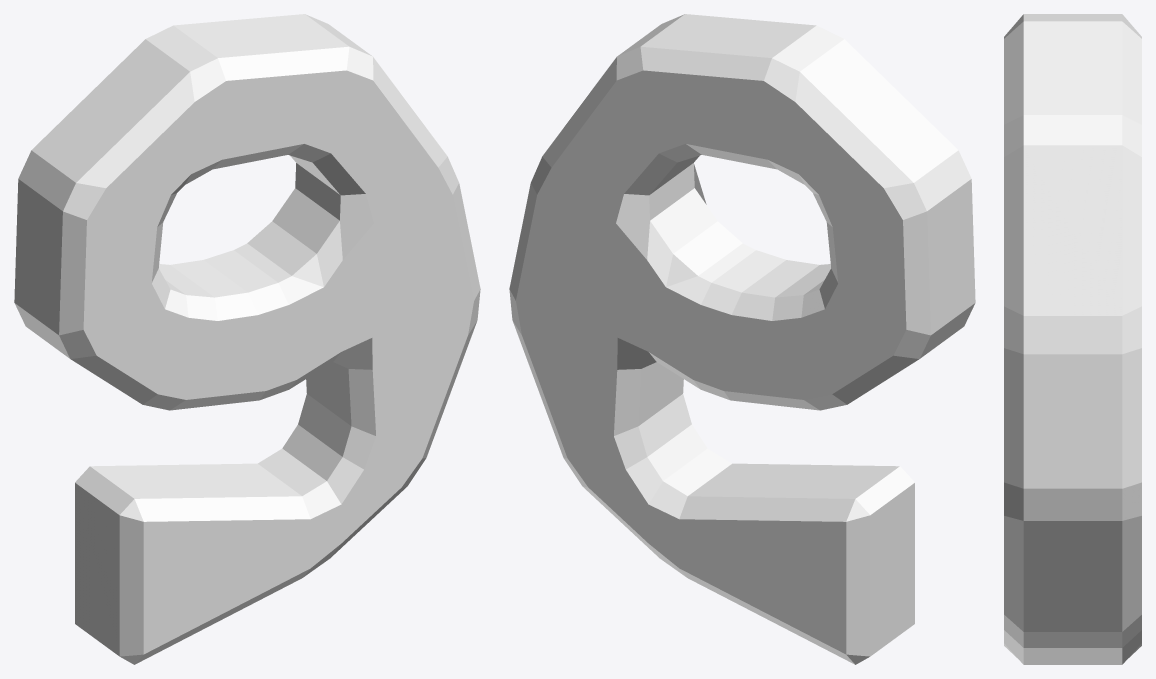
File: nine.glb
3 views of the same model, side by side, from view 1: azimuth 30°, elevation 25°; view 2: azimuth 150°, elevation 25°; view 3: azimuth 270°, elevation 25° (orthographic). The views are drawn at different scales.
Visible parts, largest first — view 1: Nine; view 2: Nine; view 3: Nine.
Part boxes in pixels (x1,y1,x2,y2): Nine: [14, 14, 480, 664]; Nine: [509, 14, 975, 664]; Nine: [1004, 14, 1141, 664].
Bounding box in the file's own units: 0.1336 × 0.1776 × 0.0343.
1 material, 1 textured.
